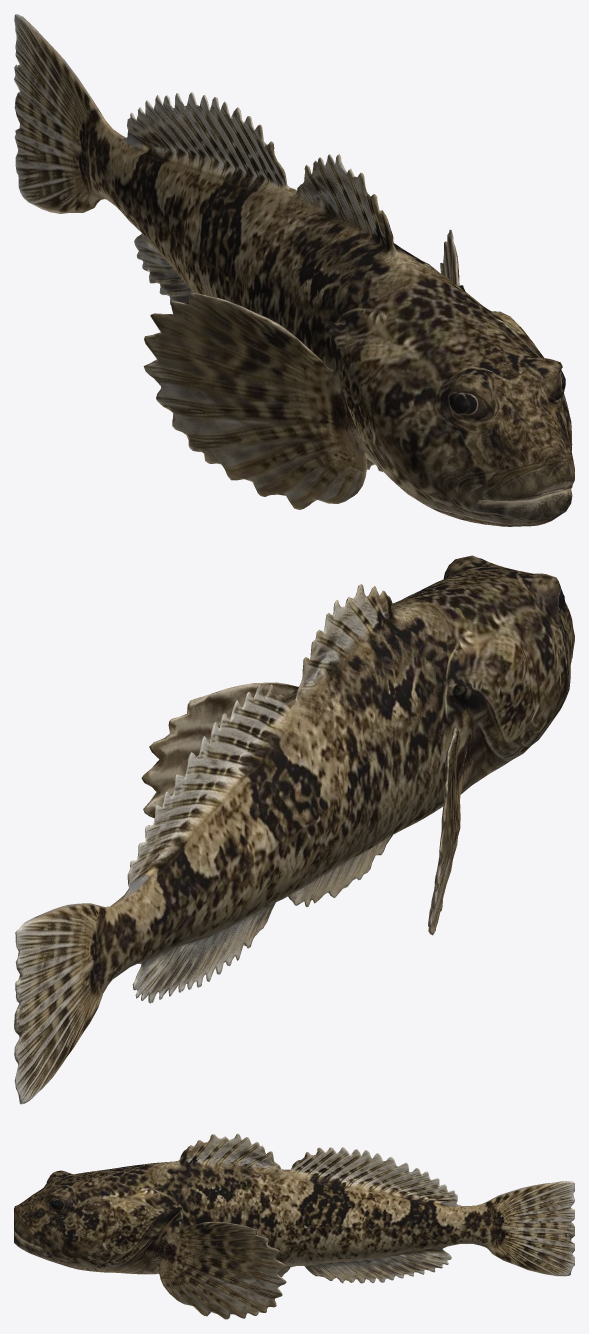
File: bullhead.glb
3 renders of one model, top to bottom at view 1: azimuth 30°, elevation 25°; view 2: azimuth 150°, elevation 25°; view 3: azimuth 270°, elevation 25°, orthographic. The views are drawn at different scales.
Bounding box in the file's own units: 0.0349 × 0.0351 × 0.108.
1 material, 1 textured.
